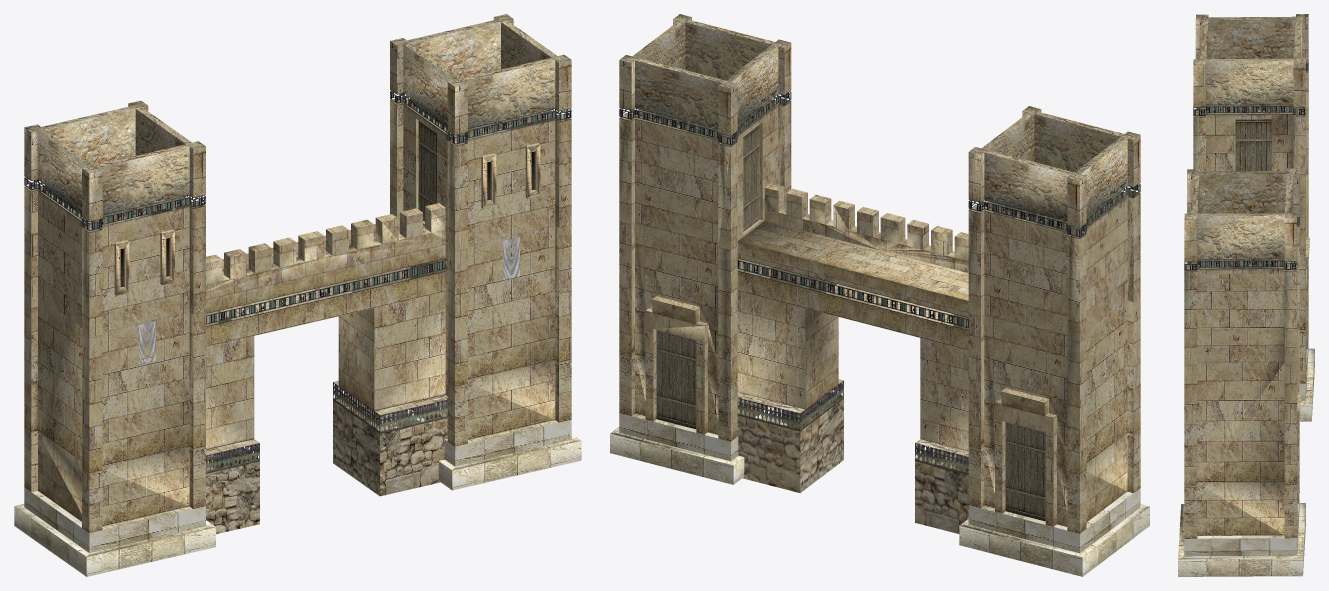
File: kart_wall_gate.dae
3 renders of one model, left to right at view 1: azimuth 30°, elevation 25°; view 2: azimuth 150°, elevation 25°; view 3: azimuth 270°, elevation 25°, orthographic. The views are drawn at different scales.
Parts seen in each view (by area): view 1: Object09_Pivot; view 2: Object09_Pivot; view 3: Object09_Pivot.
Boxes of the visible parts, x1,y1,x2,y2 form: Object09_Pivot: (14, 14, 581, 576); Object09_Pivot: (610, 14, 1149, 576); Object09_Pivot: (1178, 14, 1314, 576).
Bounding box in the file's own units: 30.77 × 8.37 × 24.1.
